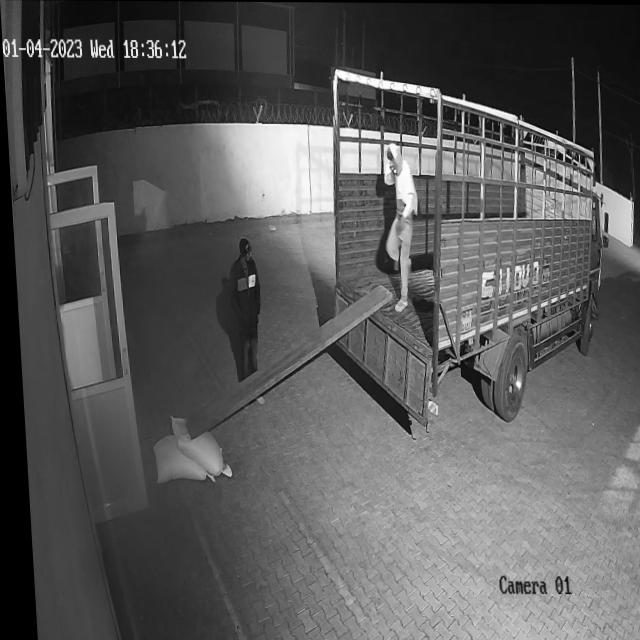sack: (164, 415, 225, 476), (146, 433, 208, 483)
